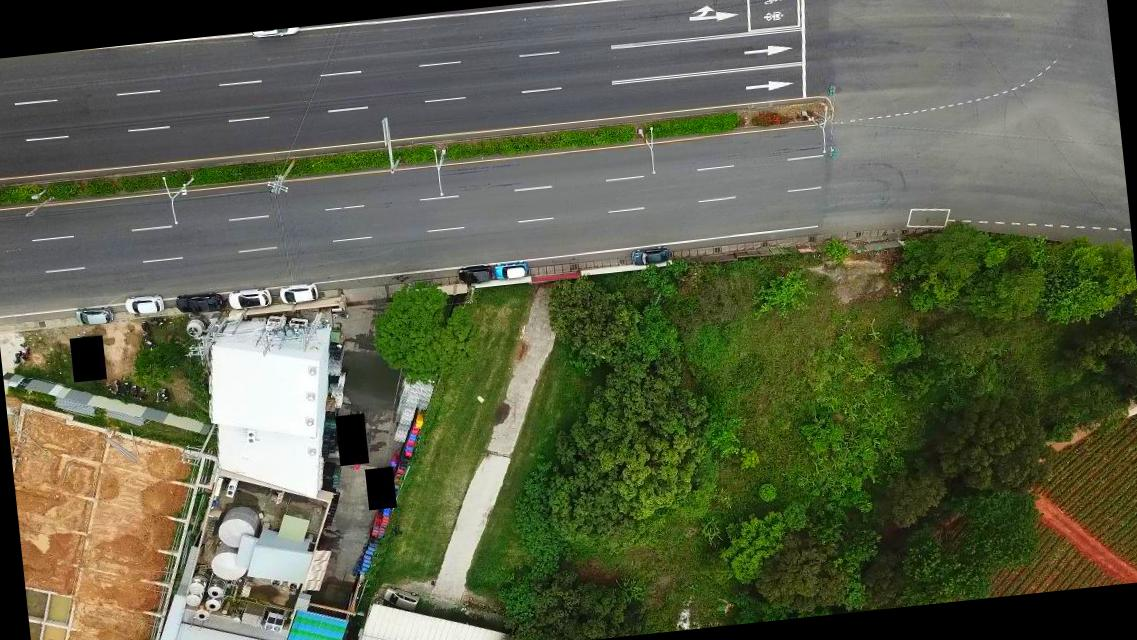vehicle: (172, 292, 224, 315), (628, 242, 670, 268), (226, 286, 271, 310), (455, 262, 493, 290), (277, 283, 319, 308), (122, 294, 164, 316), (75, 304, 115, 326), (494, 260, 528, 280)
